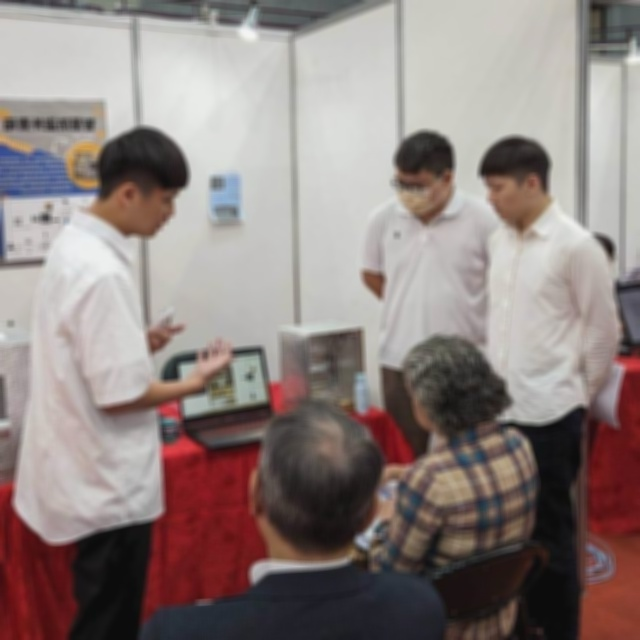Sin_Casco_Mascarrilla: (251, 401, 387, 556), (398, 334, 512, 438), (97, 130, 193, 242), (477, 134, 551, 222)
Sin_Chaleco: (15, 243, 164, 533)
